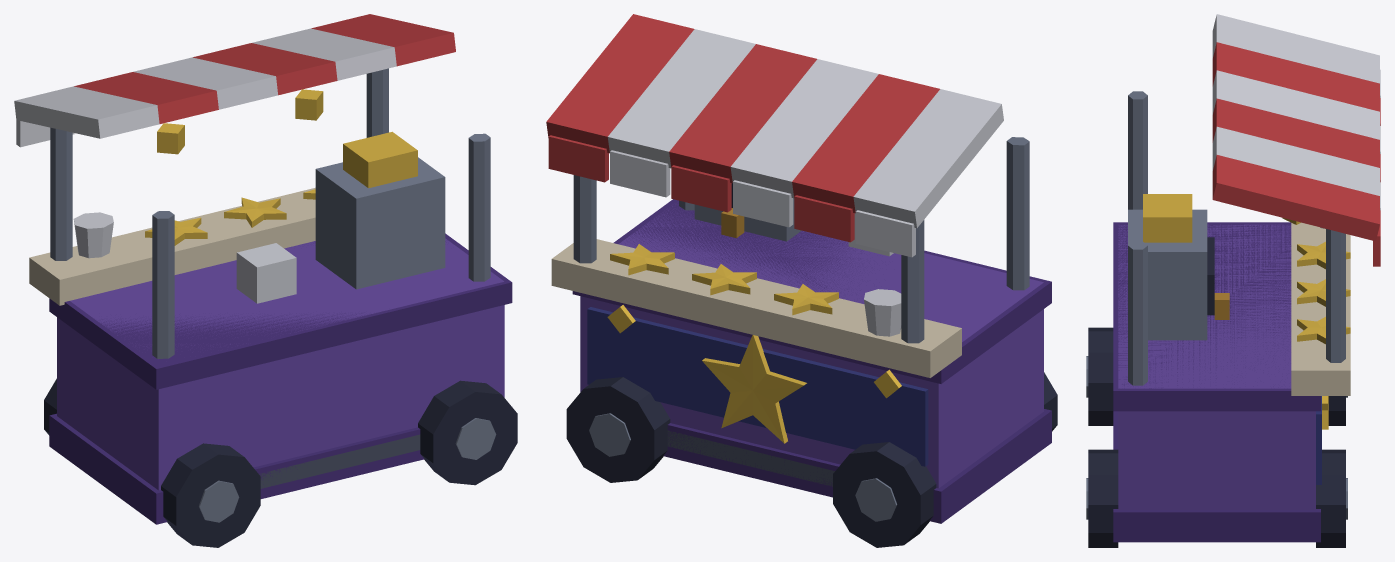
File: Decor_Observatory_Cart.fbx
The picture shows the model from 3 angles, left to right: view 1: azimuth 30°, elevation 25°; view 2: azimuth 150°, elevation 25°; view 3: azimuth 270°, elevation 25°; orthographic projection. The views are drawn at different scales.
Visible parts, largest first — view 1: Cart_Body; view 2: Cart_Body; view 3: Cart_Body.
Boxes of the visible parts, bbox=[...] form: Cart_Body: bbox=[14, 14, 517, 547]; Cart_Body: bbox=[546, 14, 1057, 547]; Cart_Body: bbox=[1086, 14, 1380, 547].
Size of the model in its own units: 7.4 by 7.61 by 5.3.
